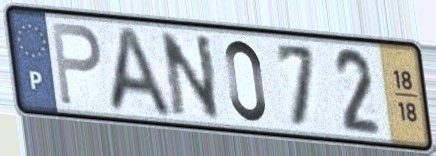0: (223, 37, 268, 124)
2: (332, 46, 383, 139)
7: (274, 42, 319, 130)
A: (104, 23, 176, 120)
N: (157, 30, 223, 123)
P: (48, 18, 104, 108)
